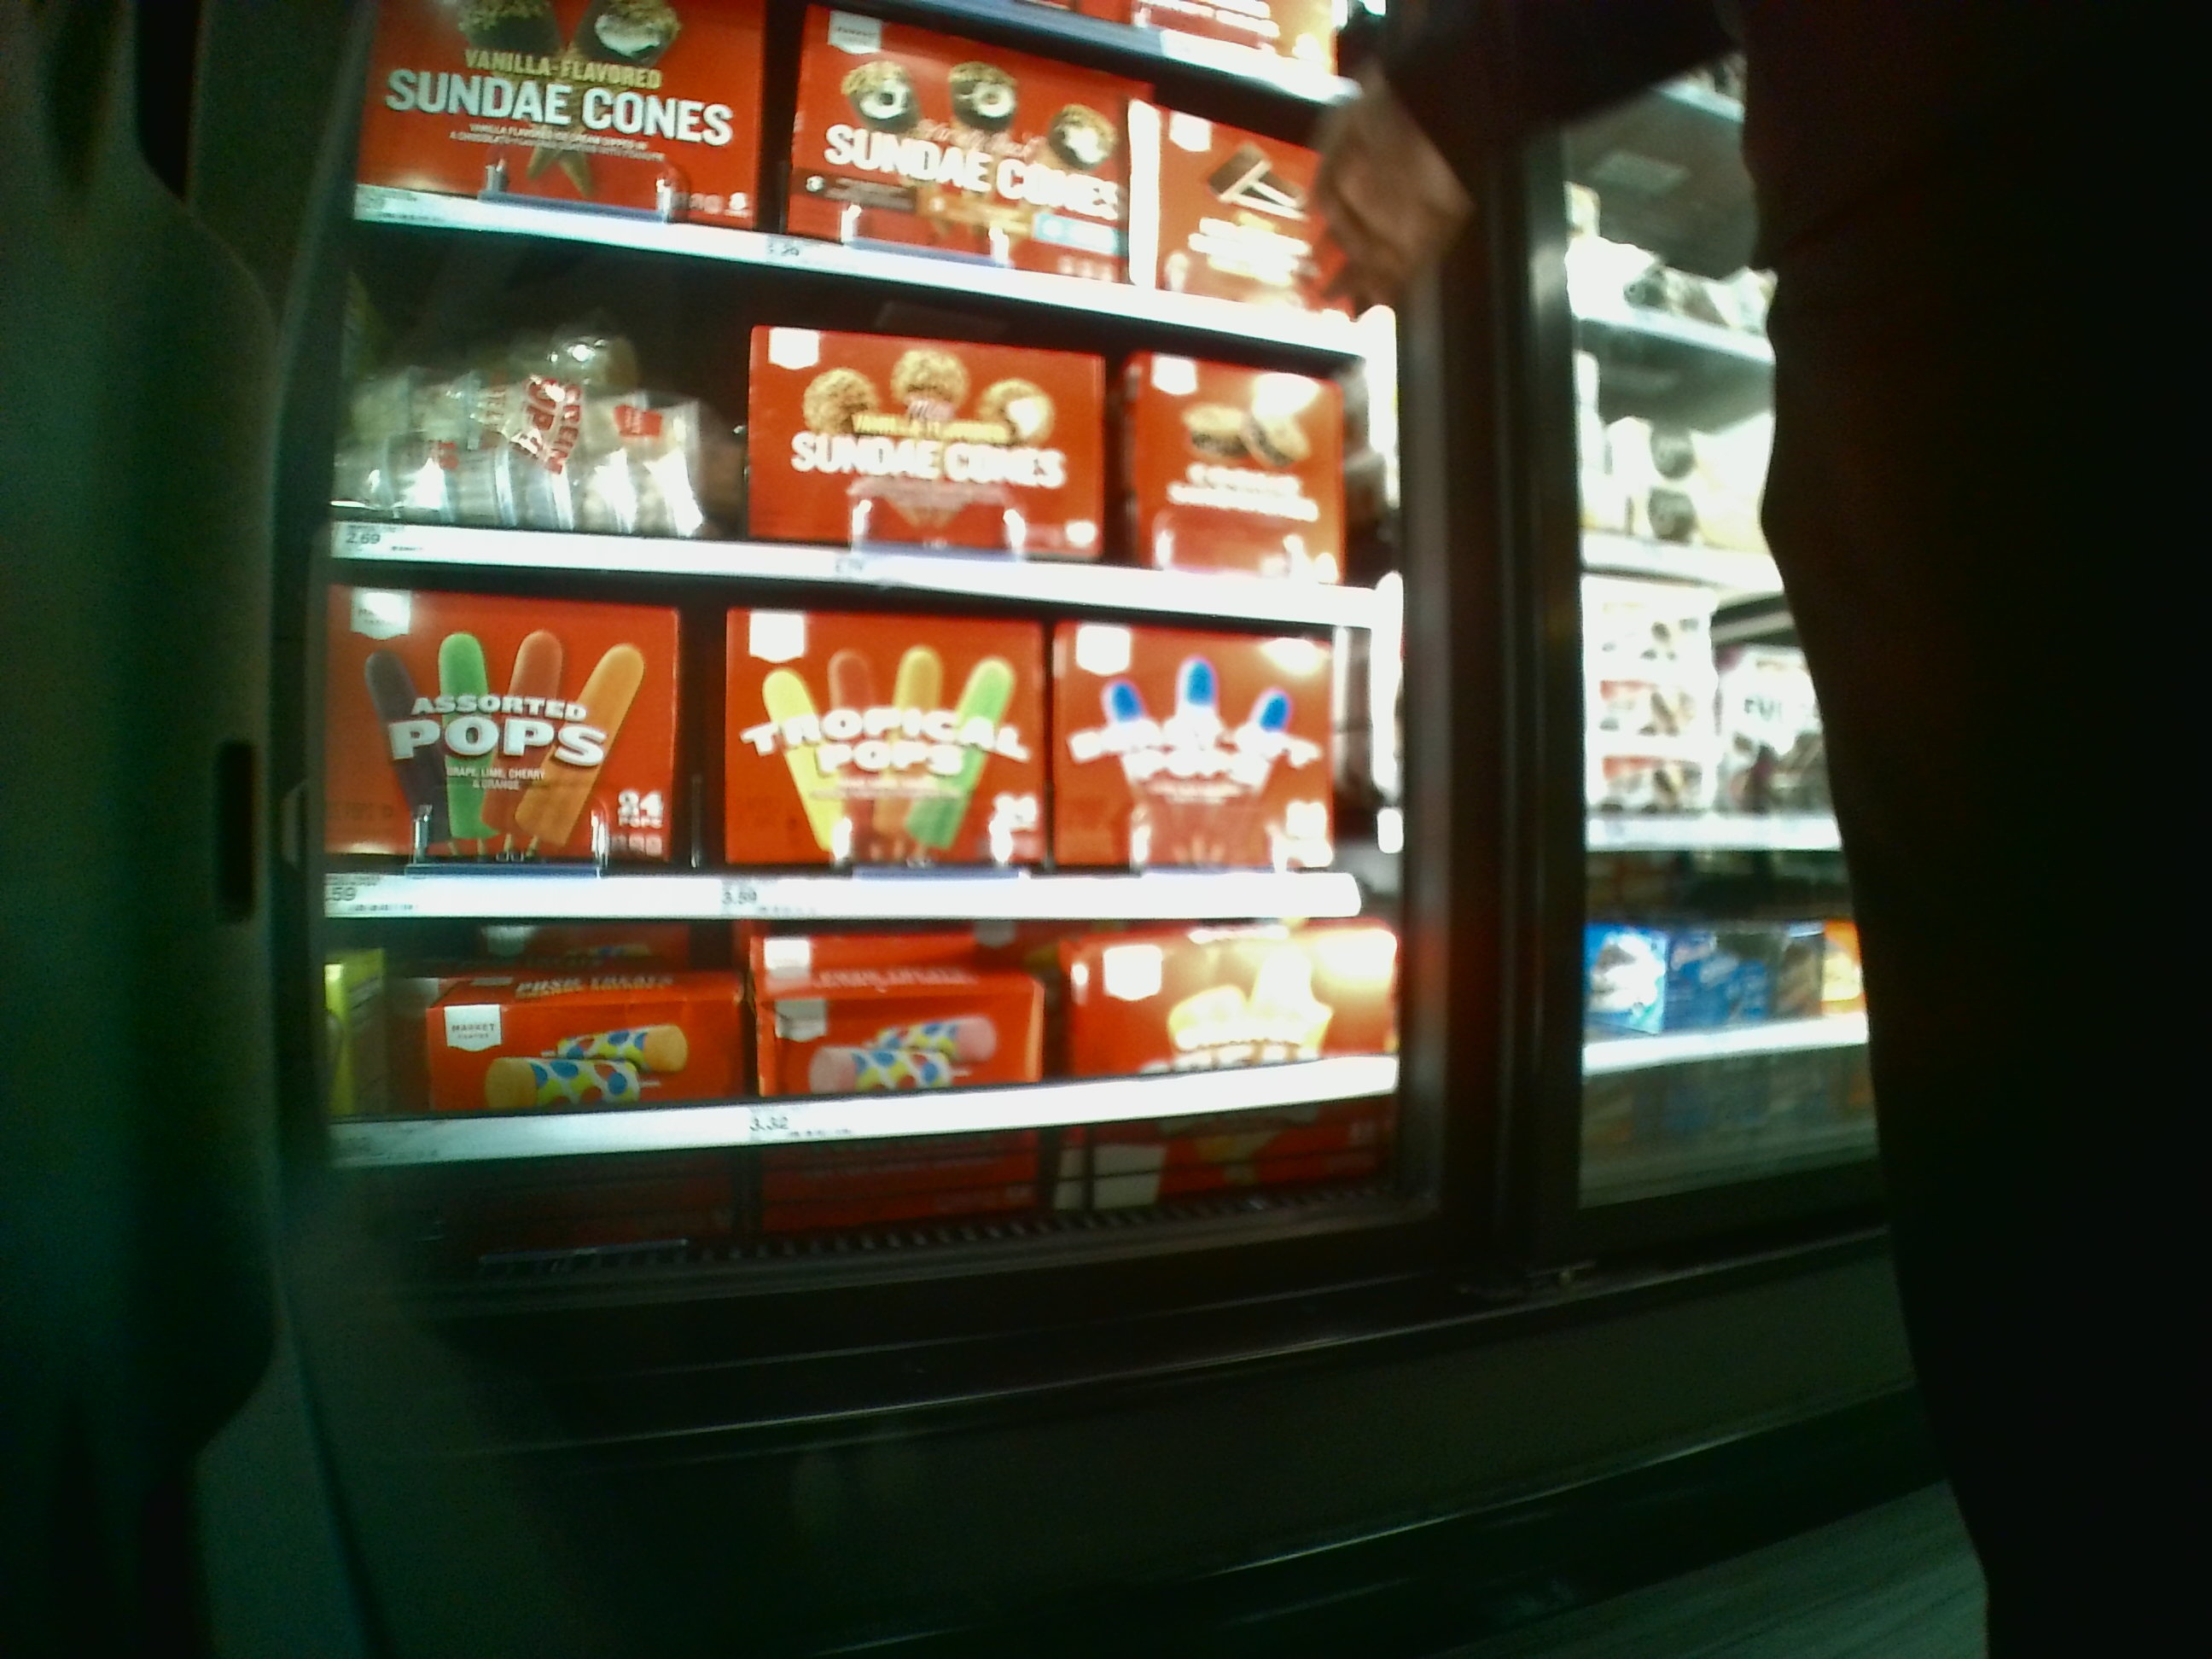shelf: (317, 592, 1378, 943), (331, 934, 1399, 1229), (336, 324, 1393, 619)
